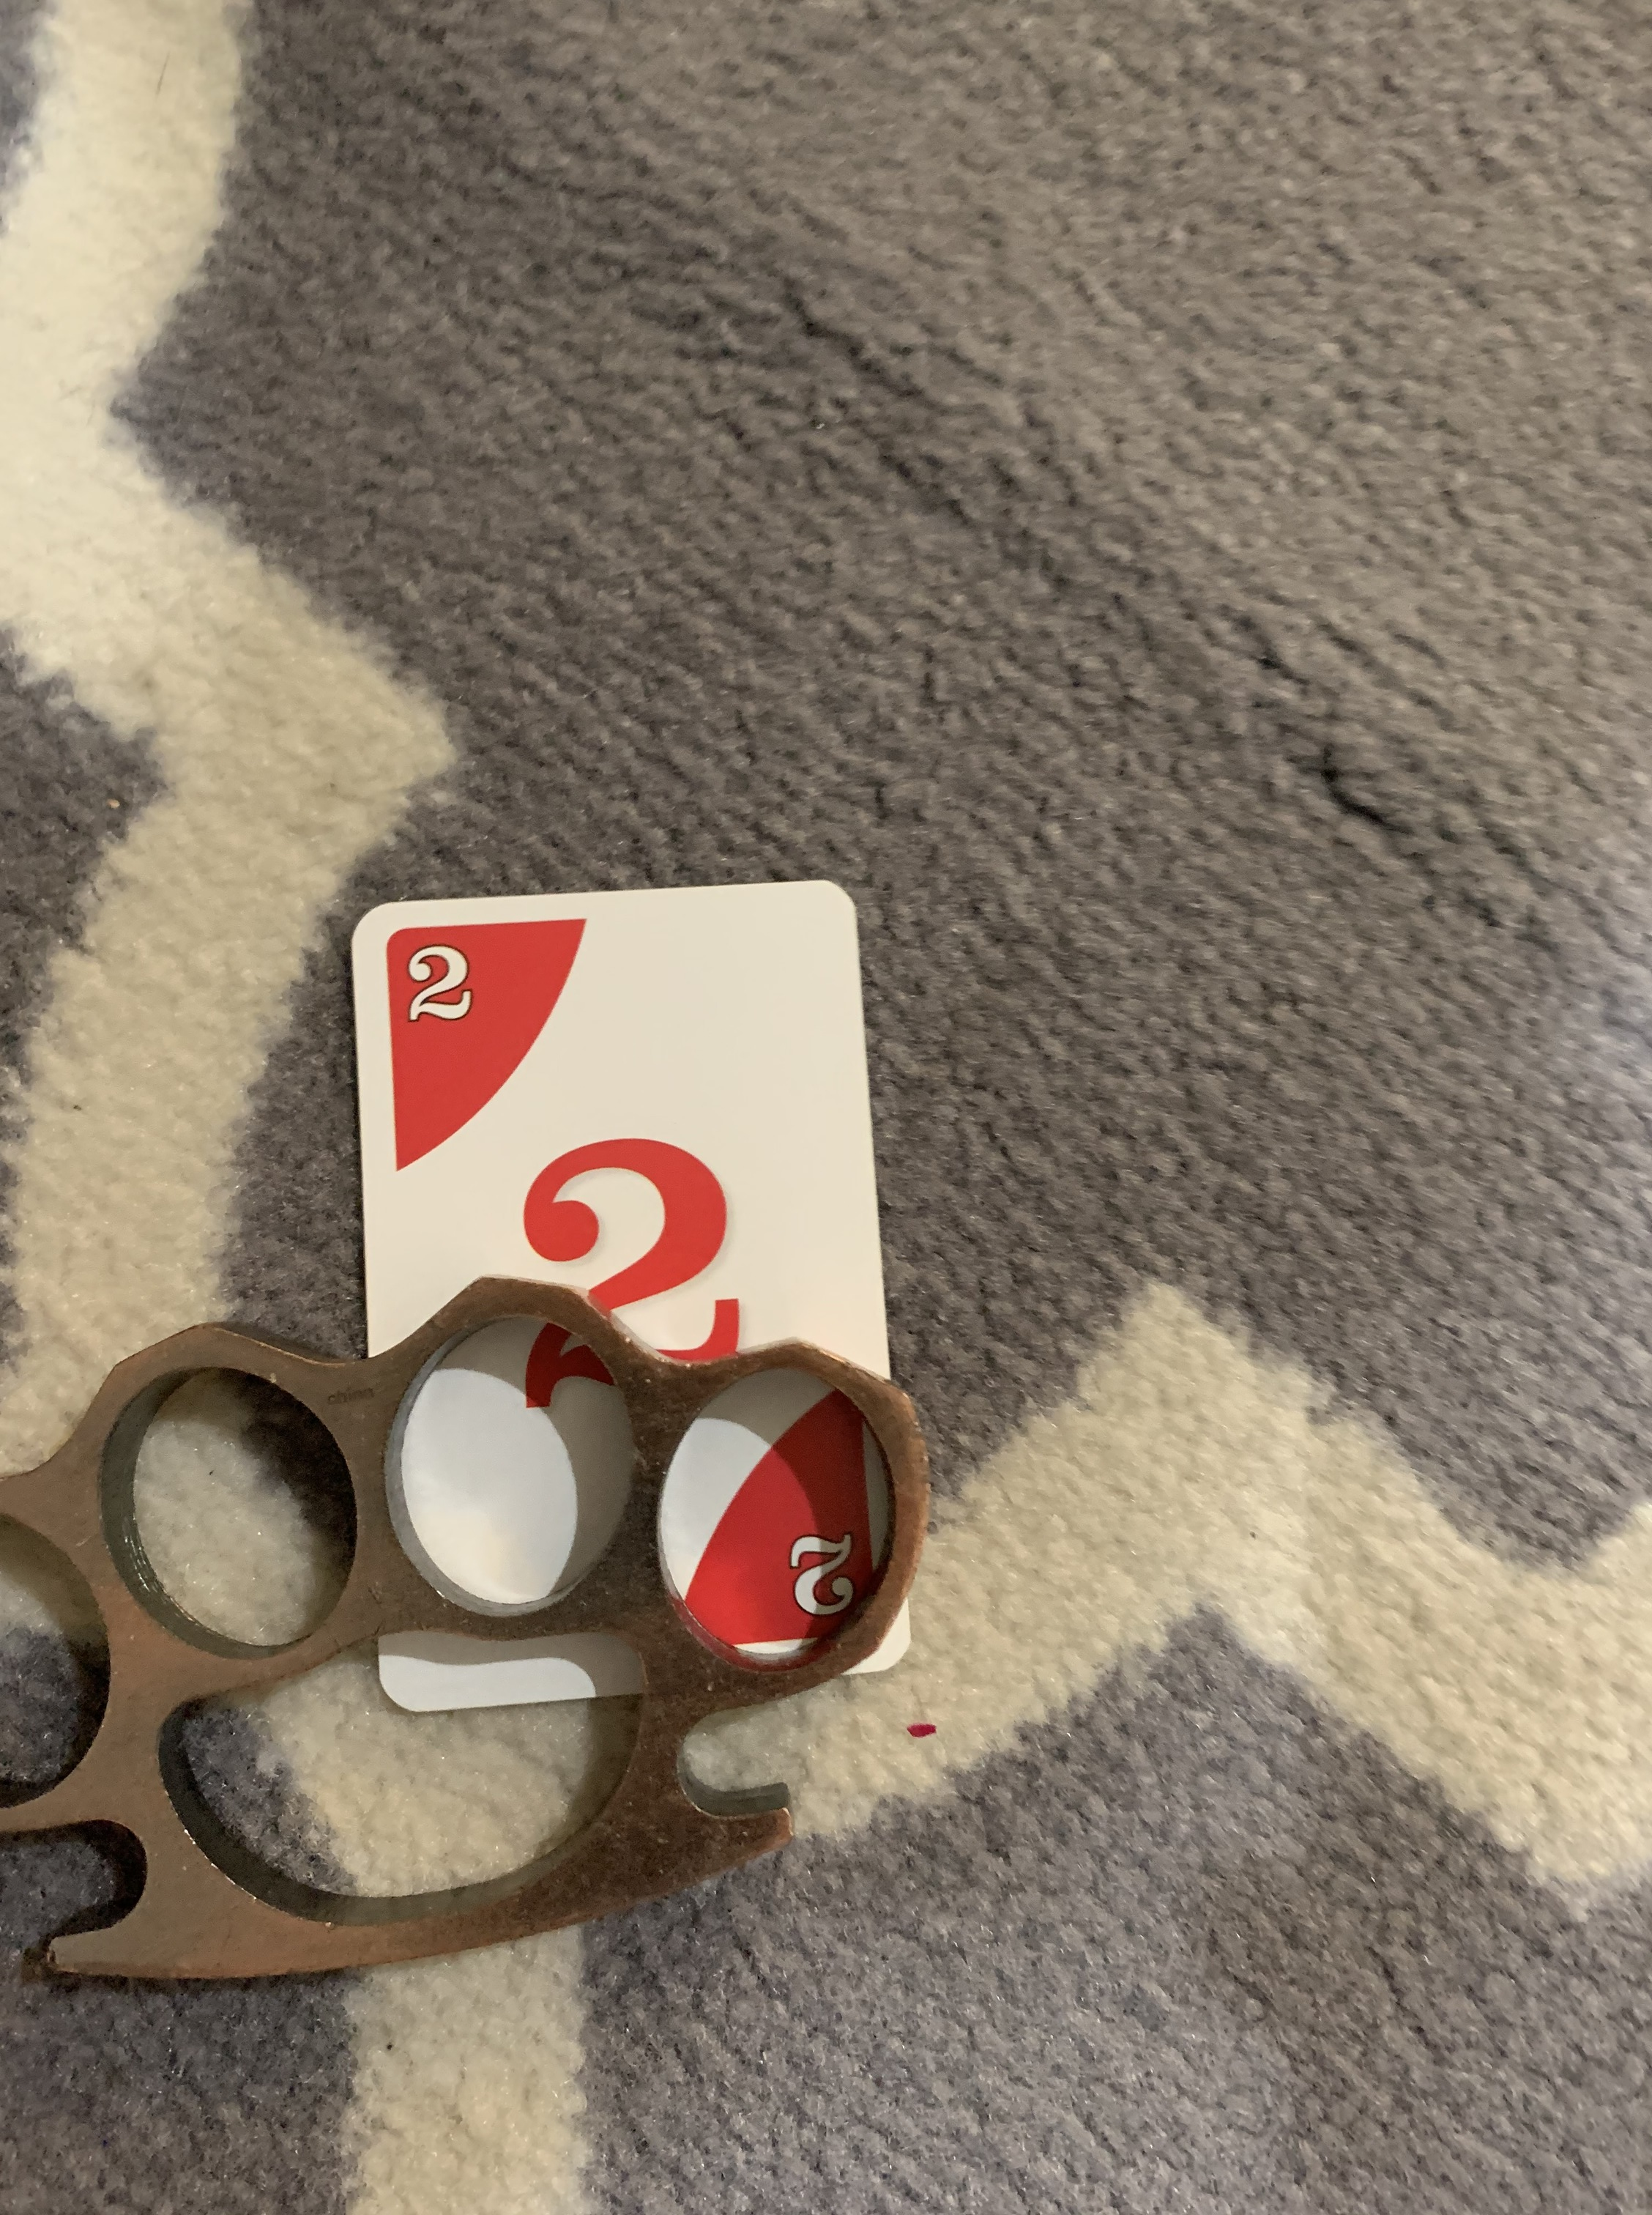two: (316, 840, 977, 1731)
